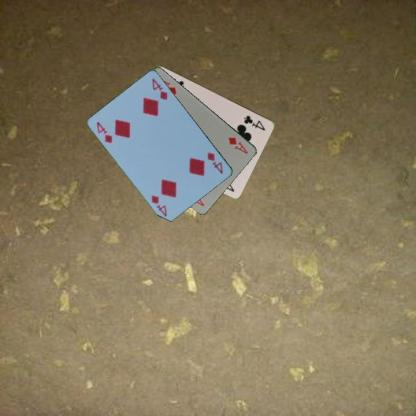4c: (241, 113, 266, 132)
4d: (94, 119, 115, 144), (204, 150, 224, 175)
Ad: (226, 134, 250, 154)
